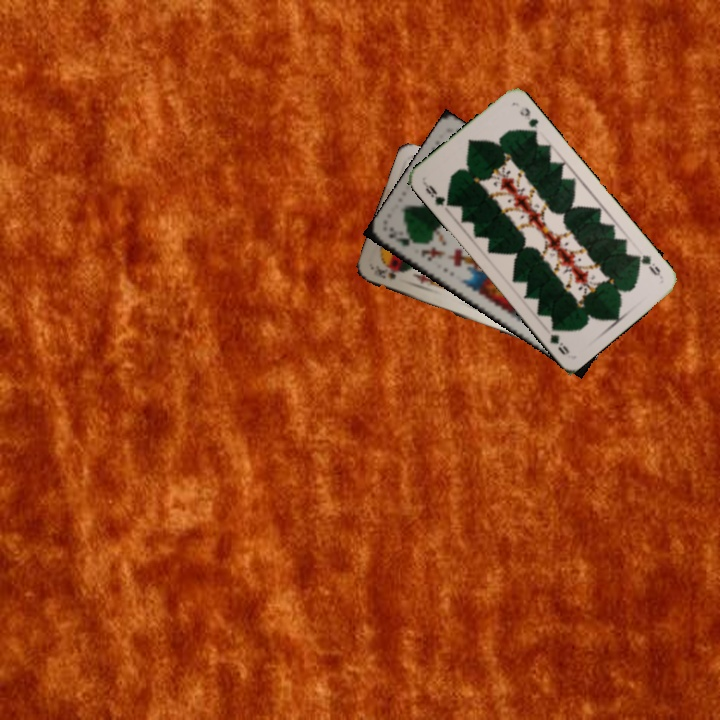G9: (420, 178, 454, 209), (630, 251, 663, 278)
GK: (384, 223, 420, 249)
SK: (373, 265, 401, 282)
